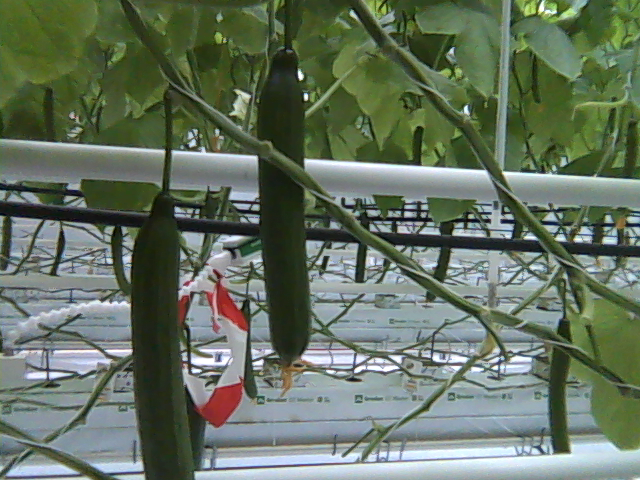concombre: (127, 184, 200, 480), (256, 41, 315, 395)
